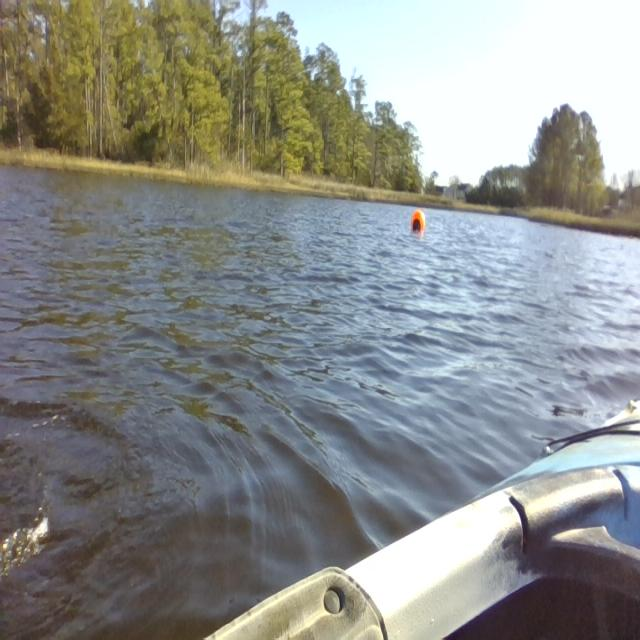Buoy: (406, 206, 433, 244)
